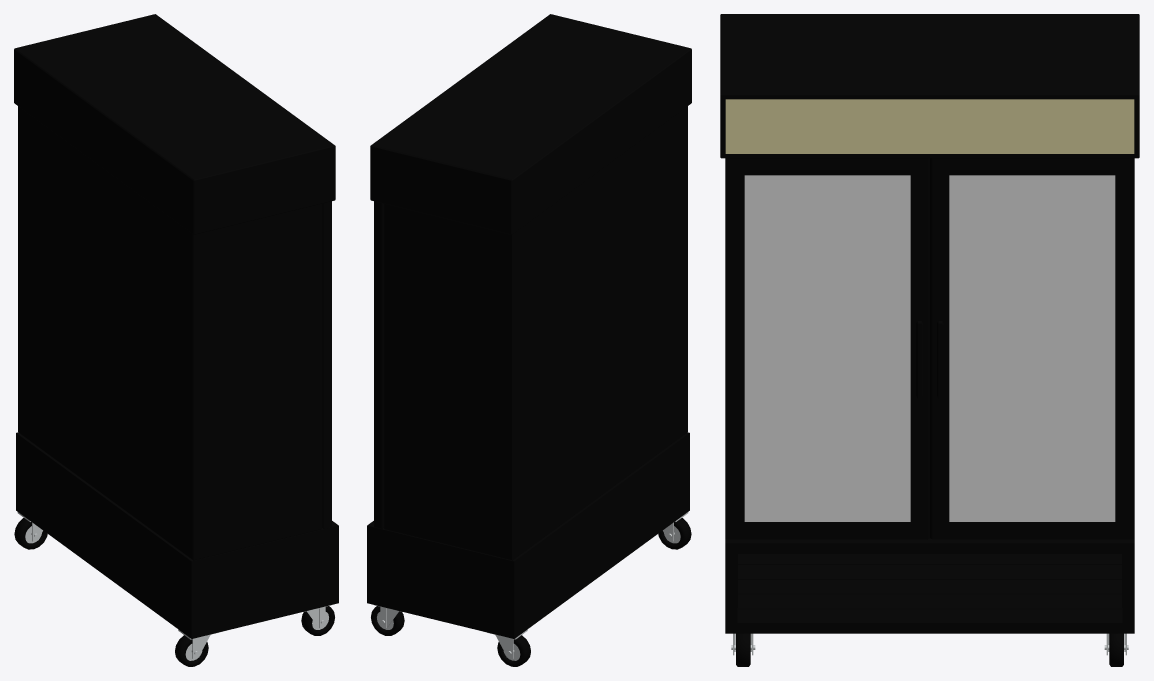
The model's file is freezer.fbx.
The picture shows the model from 3 angles, left to right: view 1: azimuth 30°, elevation 25°; view 2: azimuth 150°, elevation 25°; view 3: azimuth 270°, elevation 25°; orthographic projection. The views are drawn at different scales.
Parts seen in each view (by area): view 1: Freezer; view 2: Freezer; view 3: Freezer, Freezer_Glass.
Boxes of the visible parts, bbox=[...] form: Freezer: bbox=[14, 14, 338, 666]; Freezer: bbox=[367, 14, 691, 666]; Freezer: bbox=[720, 14, 1139, 666]; Freezer_Glass: bbox=[744, 175, 1115, 521].
Size of the model in its own units: 114 by 347 by 230.
